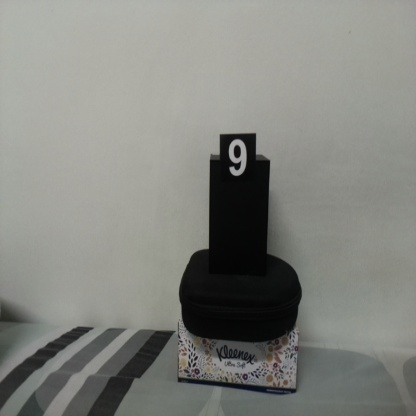id_9: (220, 134, 257, 193)
